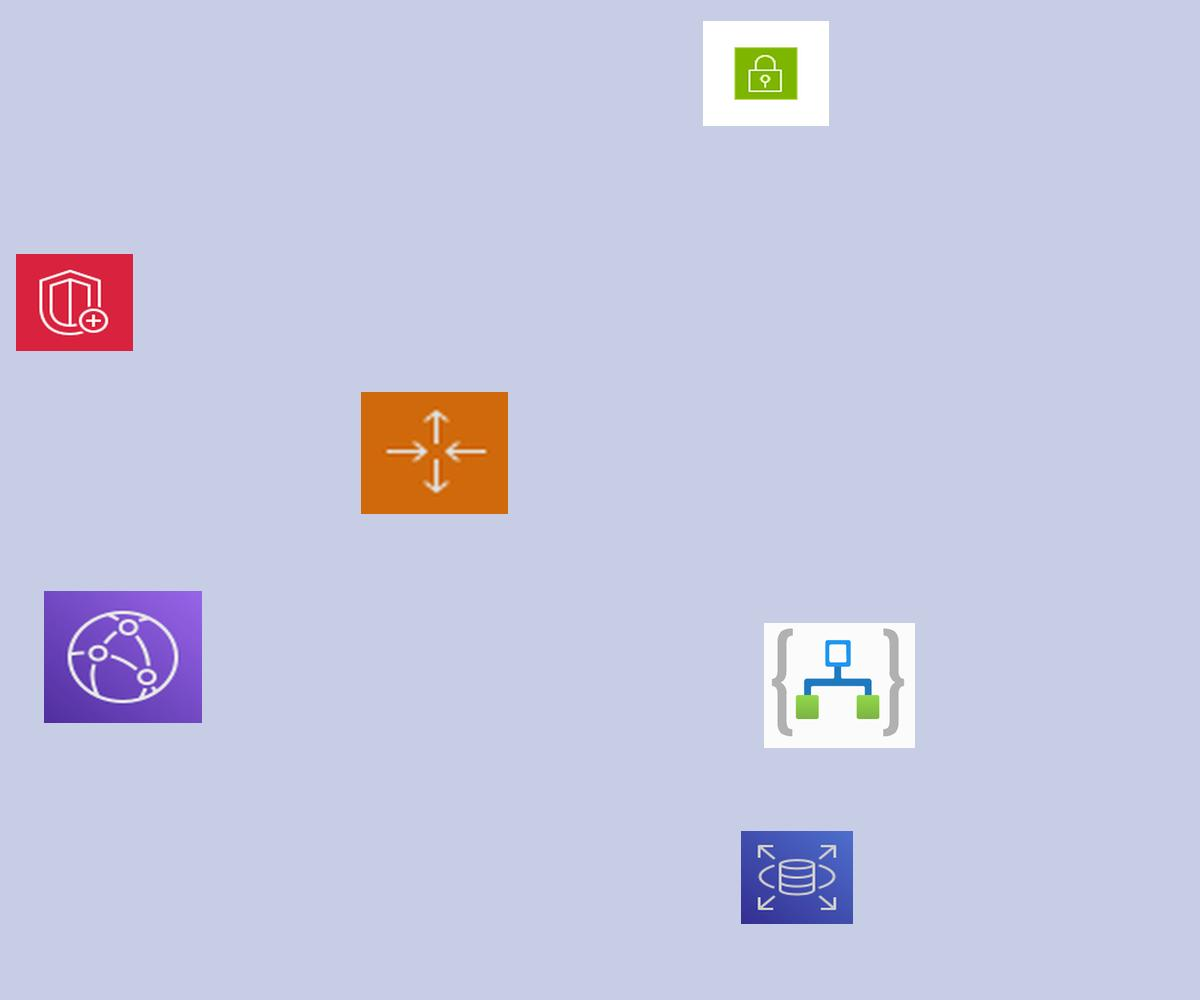AWS-CloudFront: (44, 591, 202, 723)
AWS-Public-subnet: (703, 21, 829, 126)
AWS-RDS: (741, 831, 853, 924)
AWS-Scaling-group: (361, 392, 508, 514)
AWS-Shield: (16, 254, 133, 351)
Azure_integration-204-Logic-Apps: (764, 623, 915, 748)
